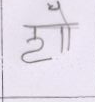au_matra: (53, 1, 75, 52)
